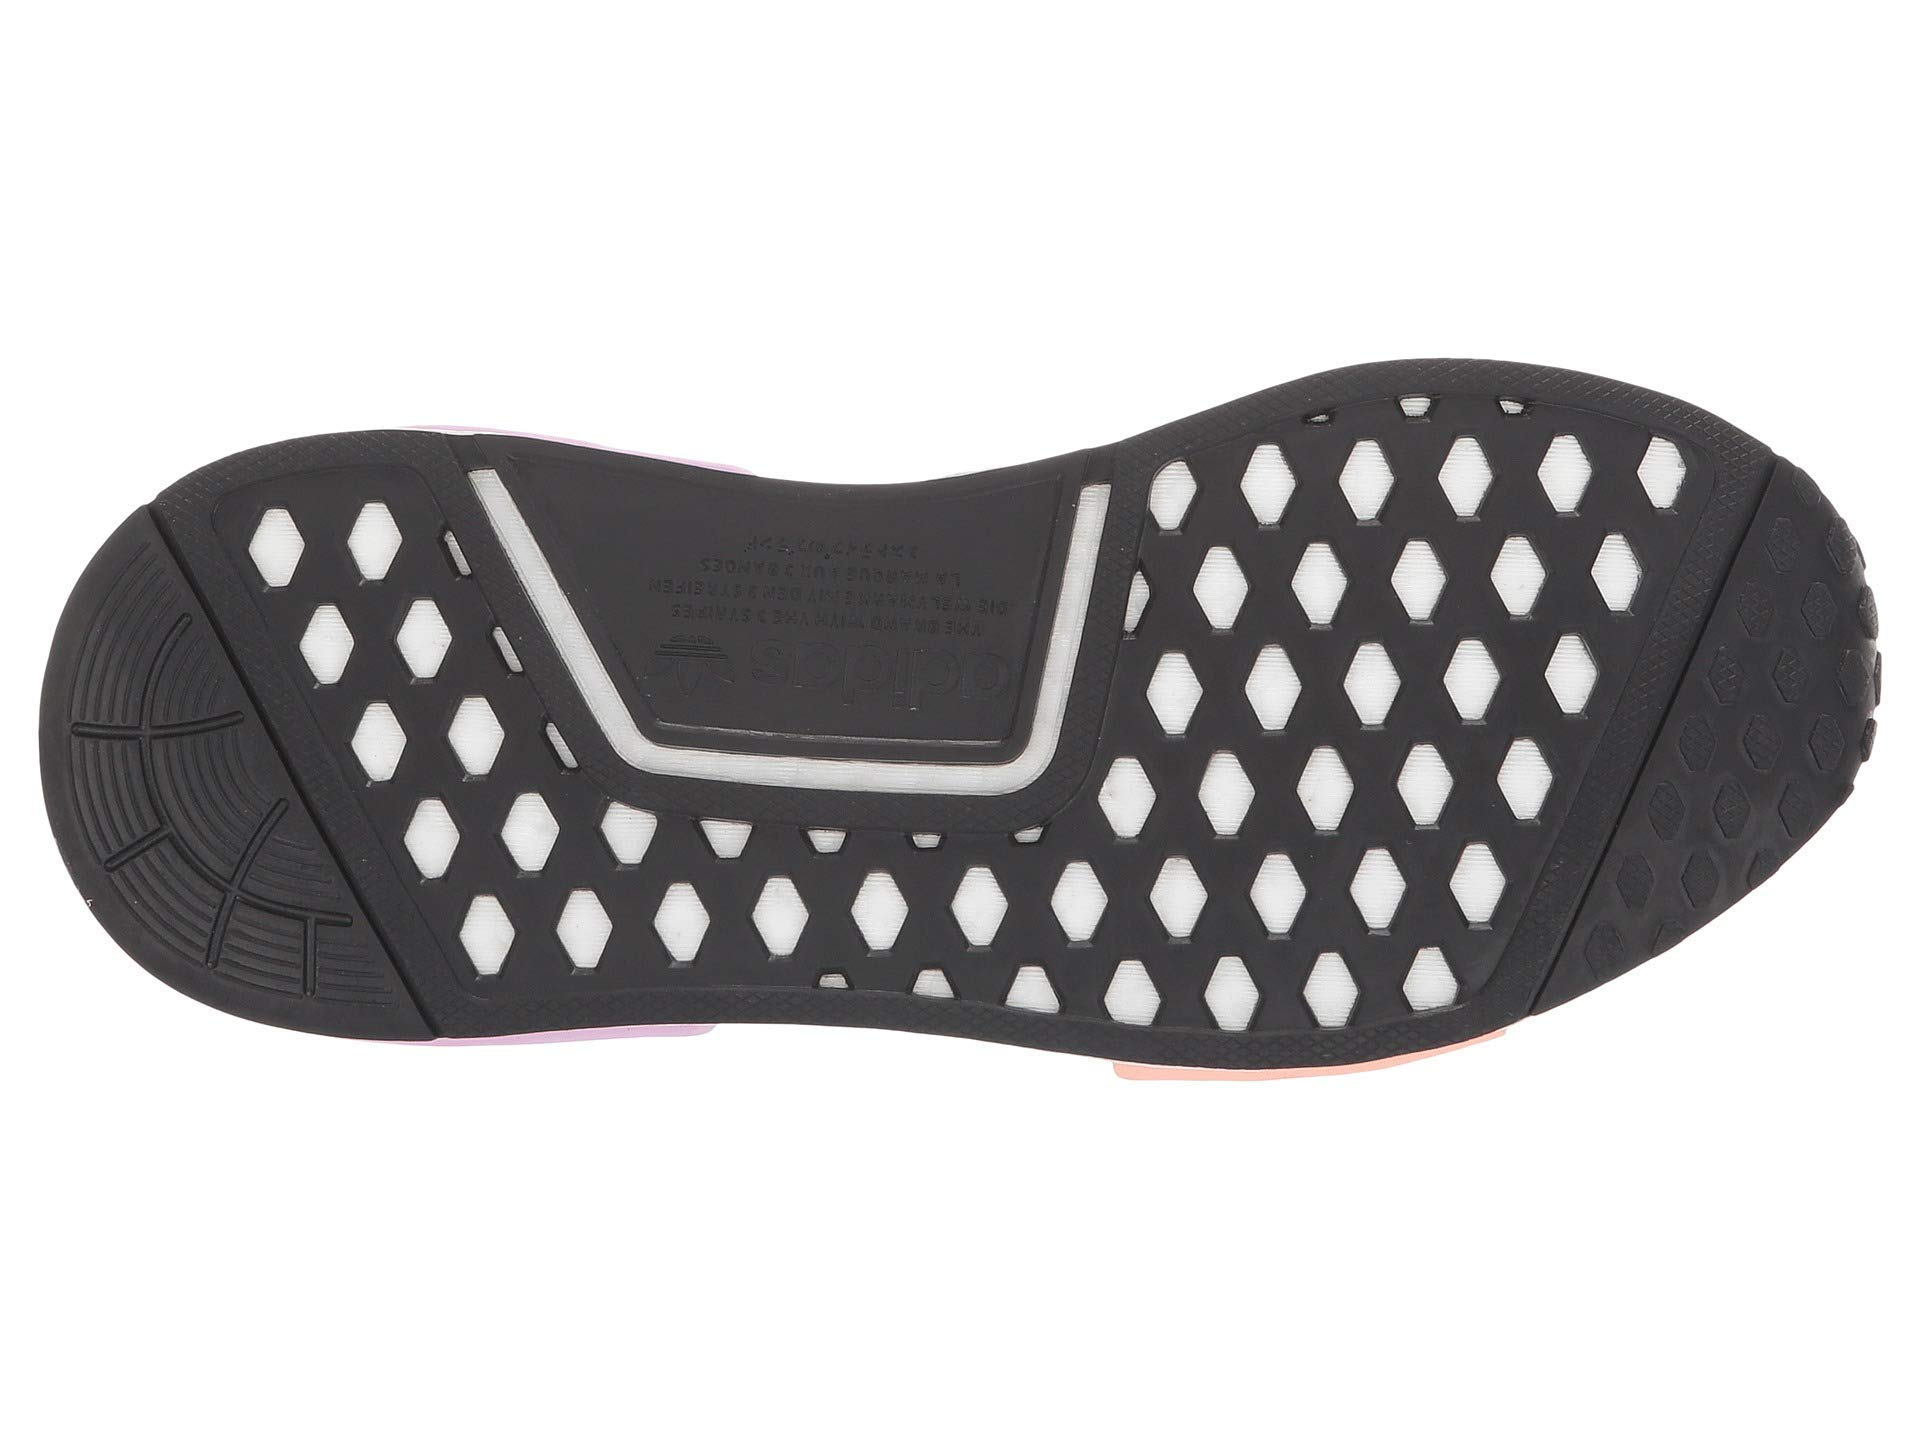line: (567, 472, 1055, 720), (63, 622, 319, 964)
polygon: (1163, 469, 1503, 954), (333, 489, 556, 706)
quad: (63, 622, 319, 964), (333, 489, 556, 706)
text: (567, 472, 1055, 720)
